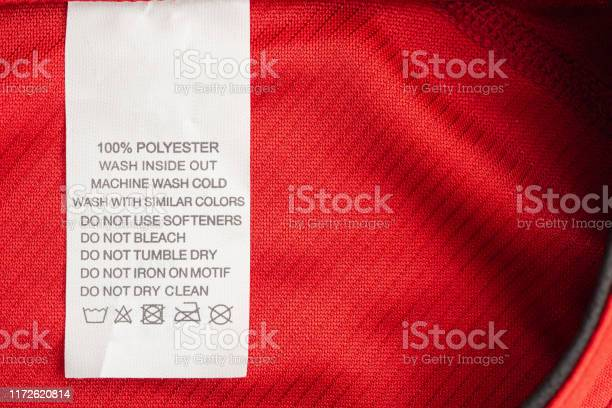ER_no_bleach: (113, 304, 134, 327)
ER_no_dry_clean: (206, 301, 235, 327)
ER_no_iron: (171, 299, 203, 324)
ER_no_tumble_dry: (139, 302, 166, 327)
ER_wash: (80, 304, 110, 326)
